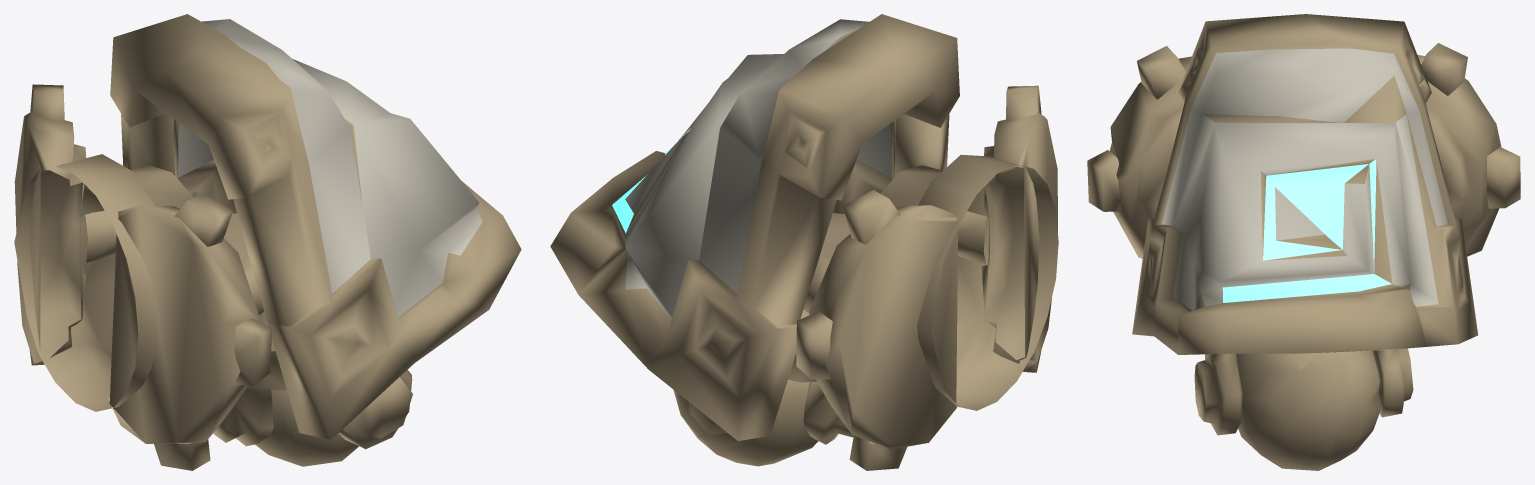
File: BossShoulder.glb
The picture shows the model from 3 angles, left to right: view 1: azimuth 30°, elevation 25°; view 2: azimuth 150°, elevation 25°; view 3: azimuth 270°, elevation 25°; orthographic projection. The views are drawn at different scales.
Parts seen in each view (by area): view 1: PART_BossShoulder.010; view 2: PART_BossShoulder.010; view 3: PART_BossShoulder.010.
Boxes of the visible parts, x1,y1,x2,y2 form: PART_BossShoulder.010: [14, 14, 521, 470]; PART_BossShoulder.010: [550, 14, 1058, 470]; PART_BossShoulder.010: [1087, 14, 1520, 470].
Bounding box in the file's own units: 1.28 × 1.29 × 1.3.
